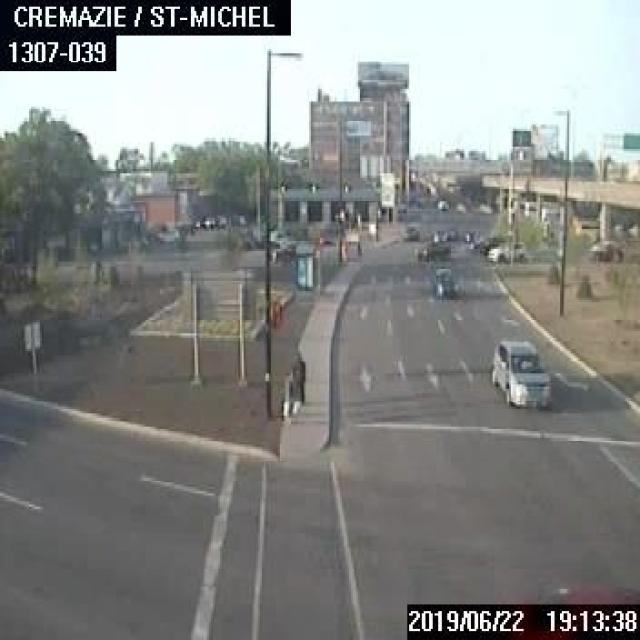pedestrian: (288, 349, 306, 404)
vehicle: (489, 336, 549, 406), (432, 262, 458, 298), (584, 238, 622, 262), (485, 239, 524, 261), (414, 239, 449, 261), (406, 220, 424, 240), (155, 226, 178, 241), (432, 228, 447, 242), (476, 202, 489, 216), (435, 196, 448, 210)
